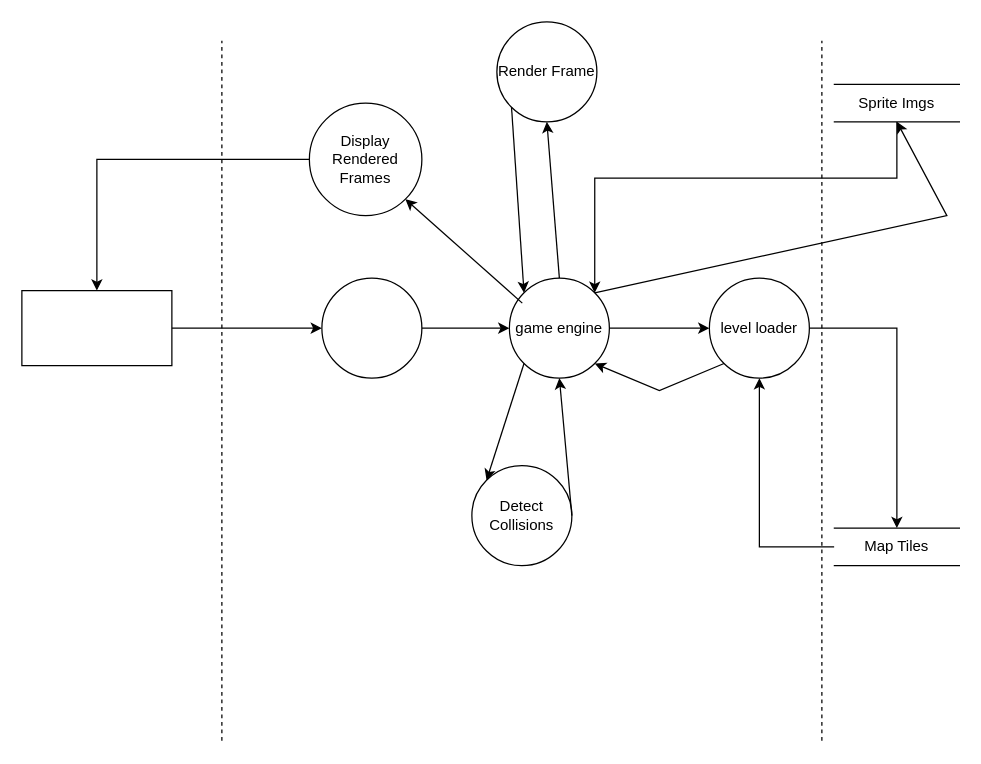
Some shapes in this 981 by 764 pixel diagram are drawn without their labels. Each missing label, with the box of its shape:
key event listener: (321, 277, 422, 378)
User: (21, 289, 172, 366)
